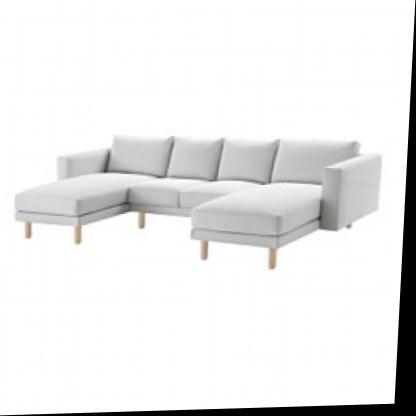Sofa: (5, 109, 390, 290)
